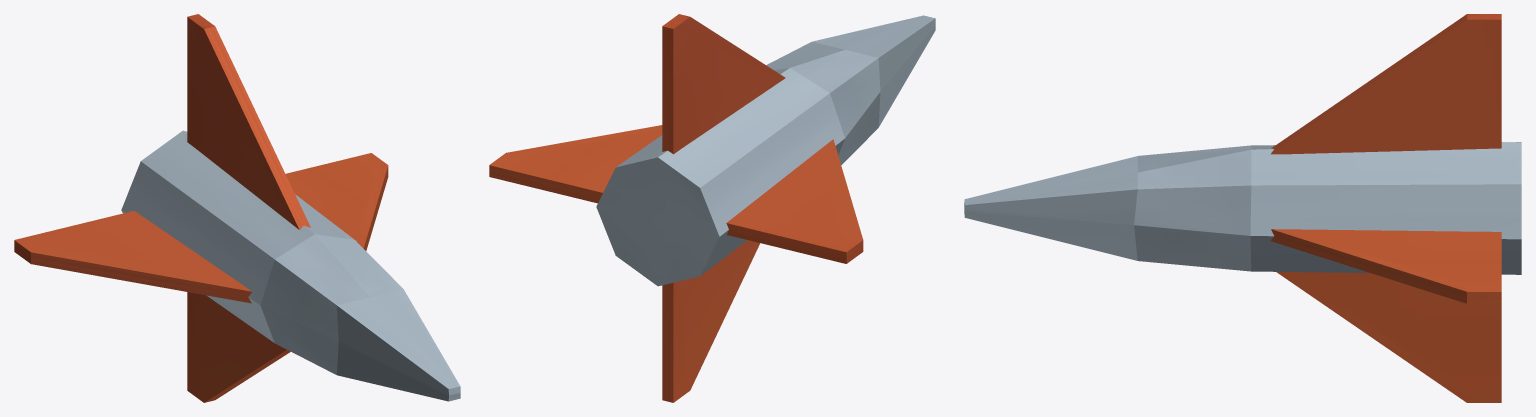
Rendered from missile.obj.
3 renders of one model, left to right at view 1: azimuth 30°, elevation 25°; view 2: azimuth 150°, elevation 25°; view 3: azimuth 270°, elevation 25°, orthographic. The views are drawn at different scales.
Visible parts, largest first — view 1: Cube; view 2: Cube; view 3: Cube.
Part boxes in pixels (x1,y1,x2,y2): Cube: [14, 14, 460, 402]; Cube: [489, 14, 935, 402]; Cube: [964, 14, 1521, 402].
Size of the model in its own units: 3.92 by 3.92 by 5.17.
